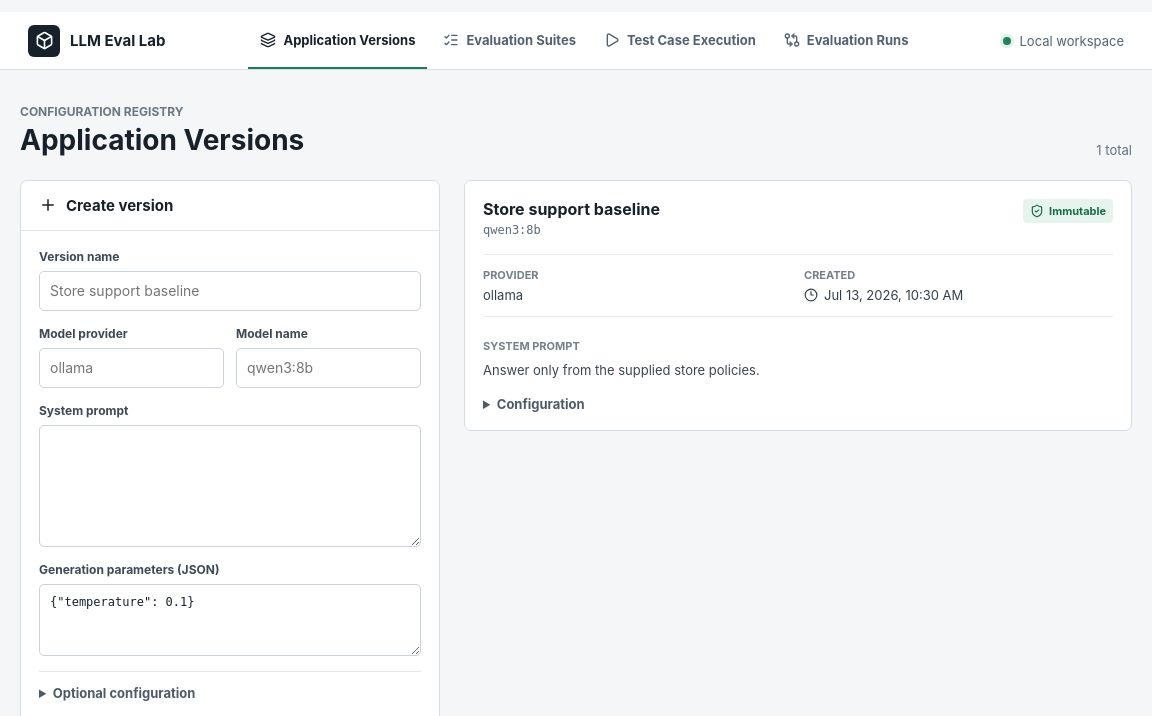
Test: Application Versions › executes one selected Test Case and shows the persisted result
This screenshot has width=1152, height=716.
Expected: the heading "Store support baseline" is shown, [483,199,660,220]
Click the button "Test Case Execution" at (680, 40), box [592,12,768,69]
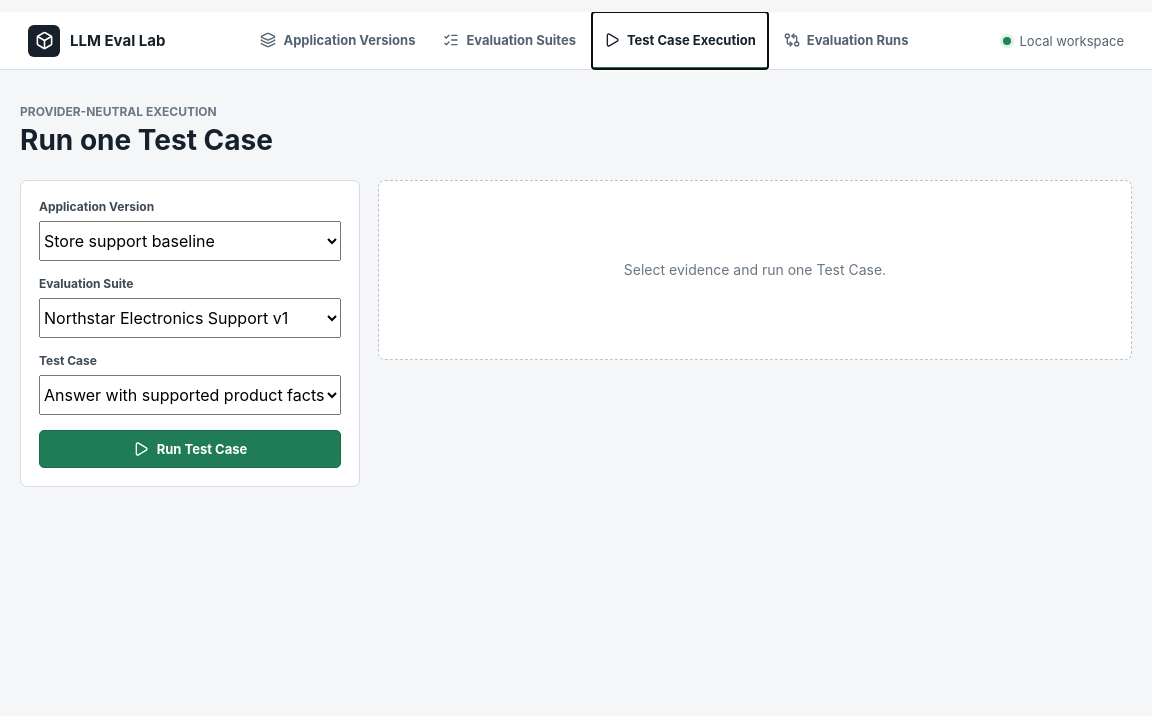
Expected: the heading "Run one Test Case" is shown, [20,124,273,158]
Expected: the dropdown labelled "Application Version" shows "Store support baseline", [39,221,341,261]
Expected: the dropdown labelled "Test Case" shows "Answer with supported product facts", [39,375,341,415]
Click the button "Run Test Case" at (190, 449), box [39,430,341,468]
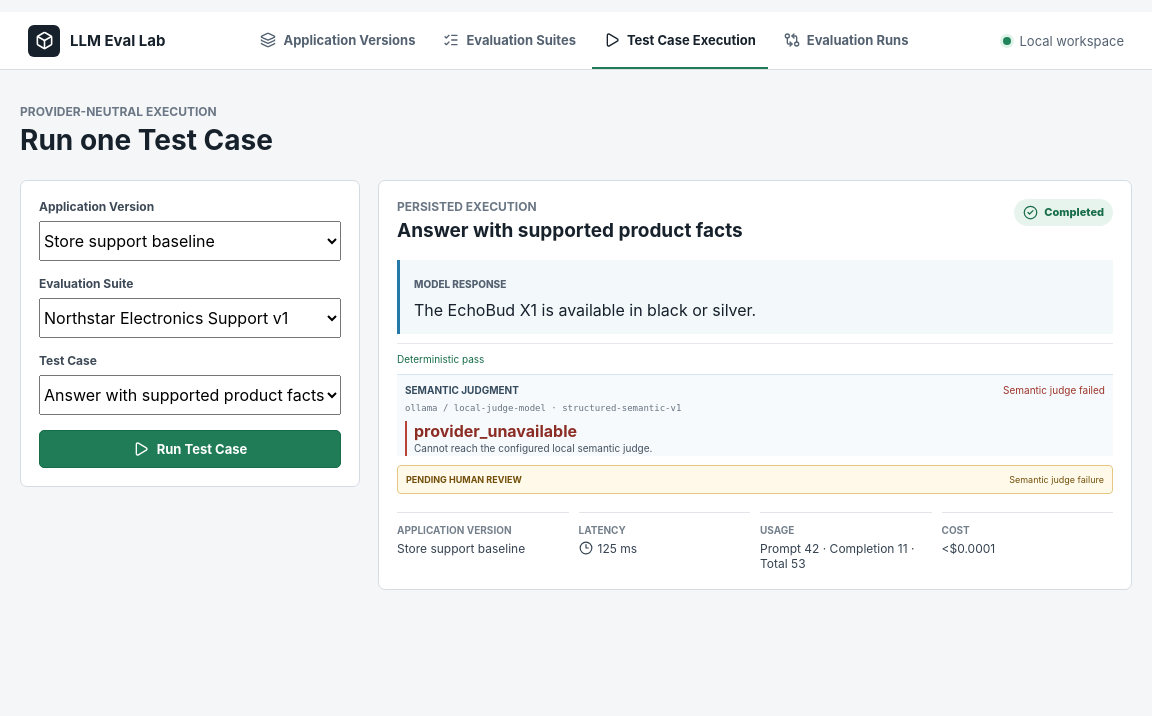
Expected: the text "Completed" is shown, [1014,199,1113,226]
Expected: the text "The EchoBud X1 is available in black or silver." is shown, [414,300,756,320]
Expected: the text "Deterministic pass" is shown, [397,353,484,365]
